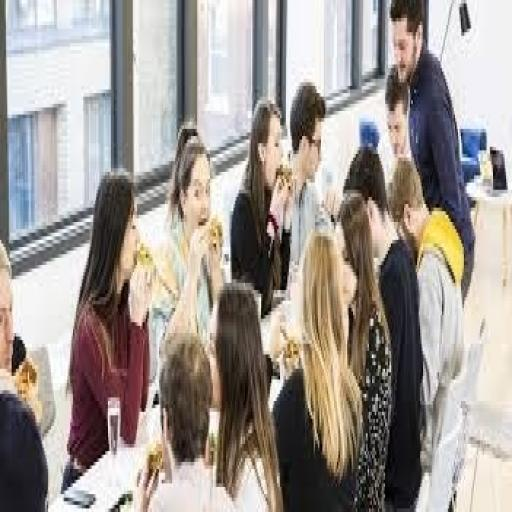eating: (61, 164, 155, 490), (386, 0, 478, 308), (271, 226, 366, 508), (147, 122, 226, 386), (229, 93, 295, 315)
